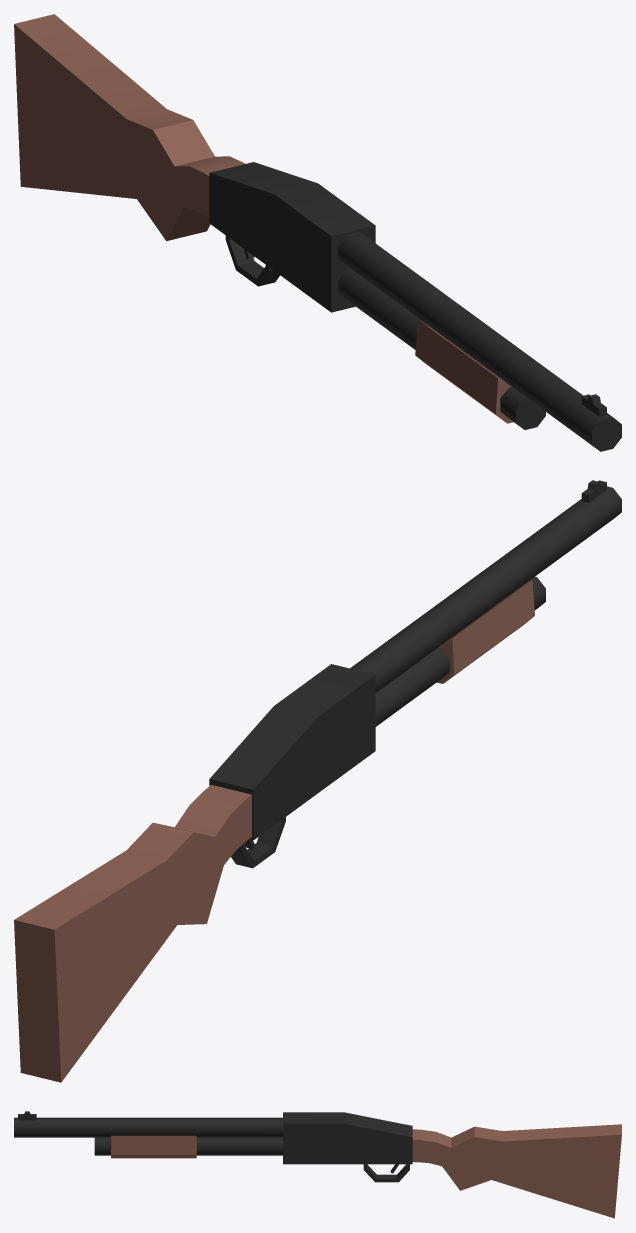
Rendered from pump_action1.glb.
3 views of the same model, one above another, from view 1: azimuth 30°, elevation 25°; view 2: azimuth 150°, elevation 25°; view 3: azimuth 270°, elevation 25° (orthographic). The views are drawn at different scales.
Parts seen in each view (by area): view 1: Pump_Action_Shotgun_Body_24, Pump_Action_Shotgun_Pump_22; view 2: Pump_Action_Shotgun_Body_24, Pump_Action_Shotgun_Pump_22; view 3: Pump_Action_Shotgun_Body_24, Pump_Action_Shotgun_Pump_22.
Boxes of the visible parts, x1,y1,x2,y2 form: Pump_Action_Shotgun_Body_24: (14, 14, 621, 451); Pump_Action_Shotgun_Pump_22: (415, 320, 513, 423); Pump_Action_Shotgun_Body_24: (14, 480, 621, 1082); Pump_Action_Shotgun_Pump_22: (437, 580, 534, 683); Pump_Action_Shotgun_Body_24: (14, 1111, 621, 1218); Pump_Action_Shotgun_Pump_22: (111, 1135, 197, 1158).
Size of the model in its own units: 0.1031 by 0.4233 by 2.31.
